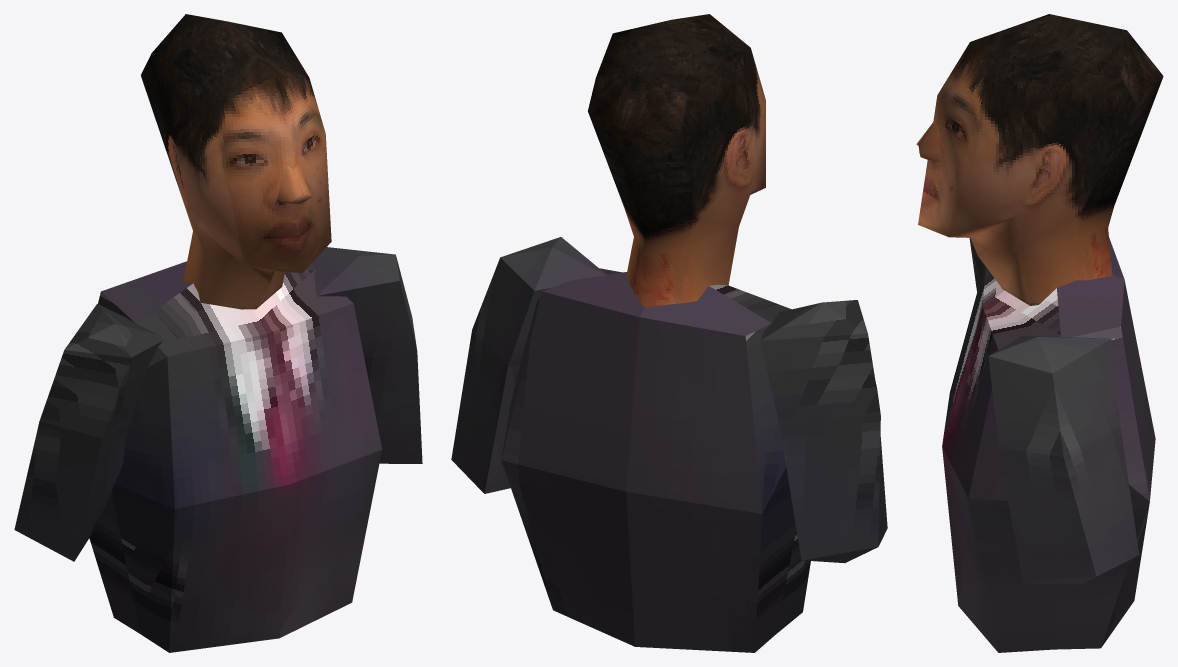
The model's file is NinGroom.glb.
3 renders of one model, left to right at view 1: azimuth 30°, elevation 25°; view 2: azimuth 150°, elevation 25°; view 3: azimuth 270°, elevation 25°, orthographic. The views are drawn at different scales.
Visible parts, largest first — view 1: Body1; view 2: Body1; view 3: Body1.
Boxes of the visible parts, left/top/right/bottom form: Body1: left=14, top=14, right=422, bottom=652; Body1: left=451, top=14, right=887, bottom=652; Body1: left=916, top=14, right=1163, bottom=652.
Size of the model in its own units: 0.1857 by 0.2641 by 0.098.
Materials: 2 (2 with a texture image).
